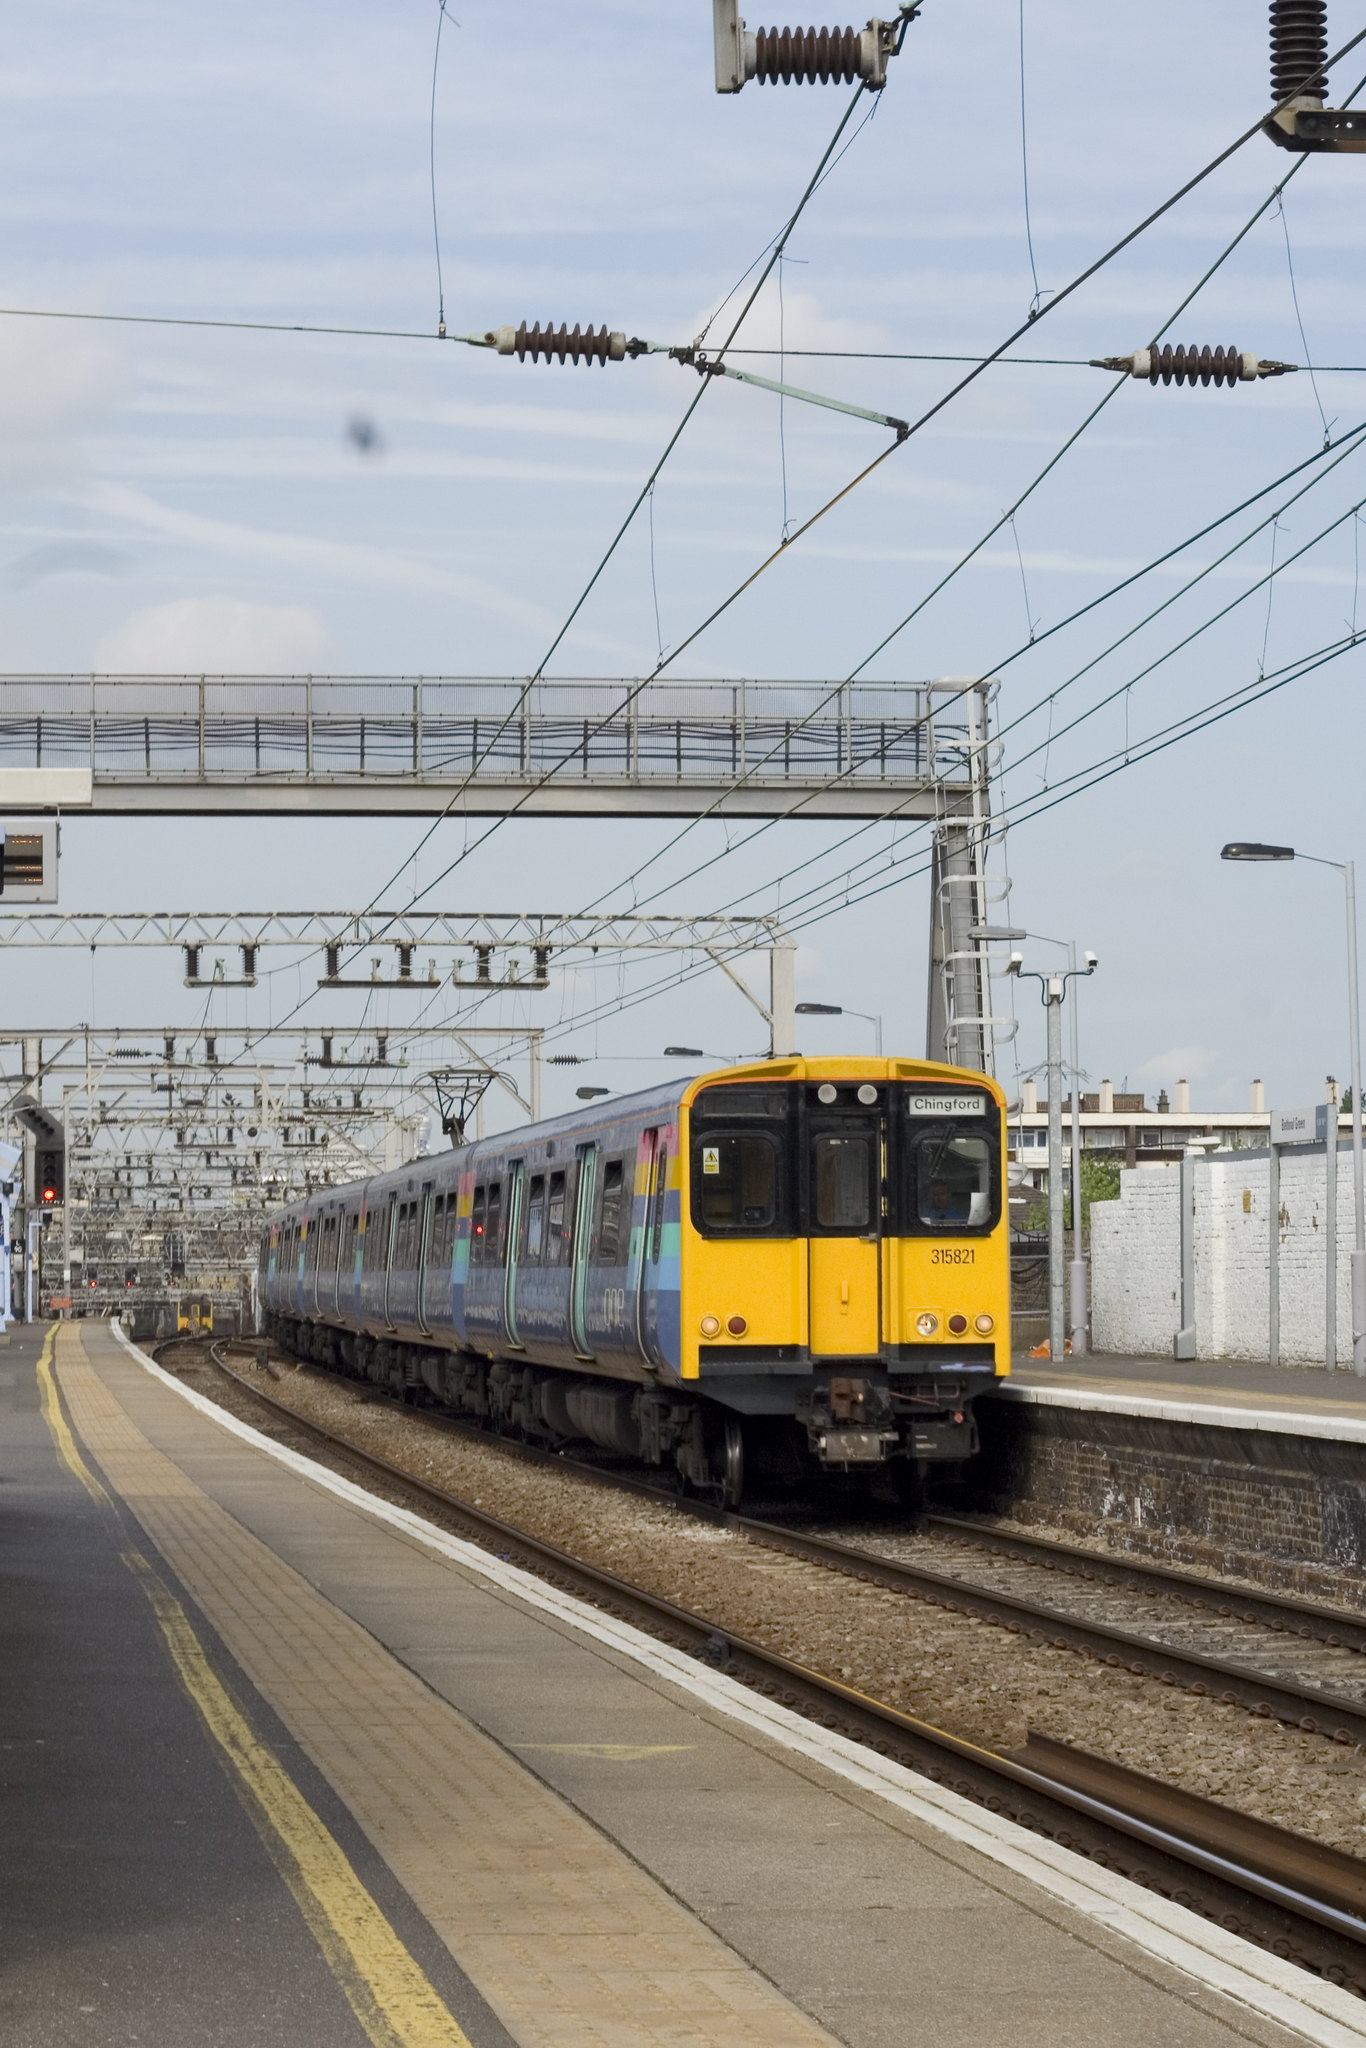train: (249, 1042, 1046, 1534)
